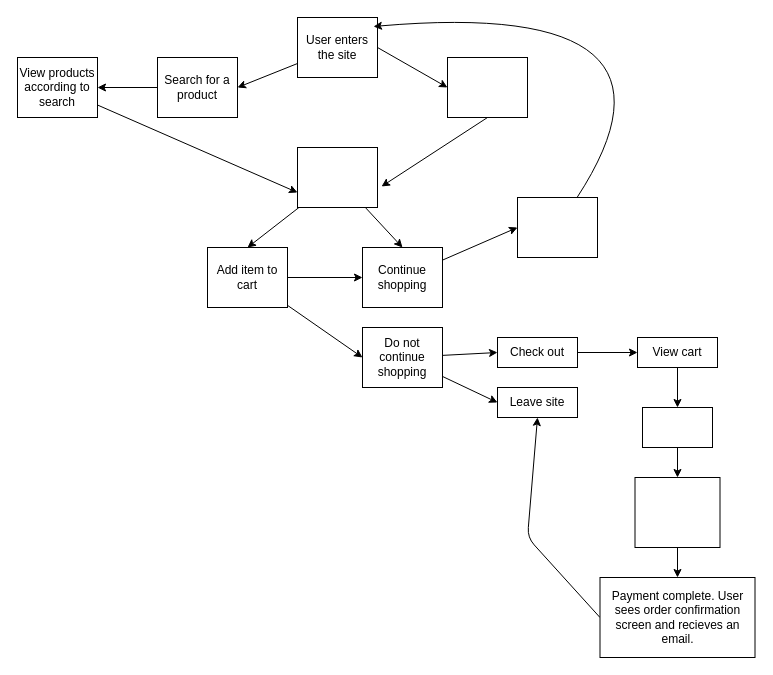
The diagram is 773 pixels wide and 675 high, and some of its shapes have lost their labels. Here are the shapes that lost their labels. From the top down, the box of each, then its label:
(446, 56, 528, 118): Explore products
(296, 146, 378, 208): View specific product
(516, 196, 598, 258): Return to main page
(642, 406, 712, 448): View payment
(634, 476, 720, 548): User inputs payment information
